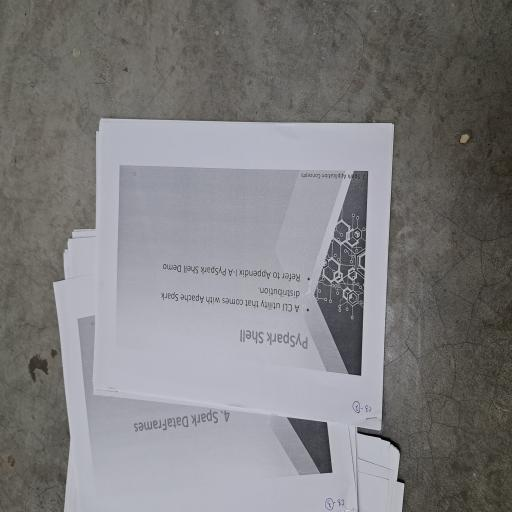paper: (0, 71, 294, 512)
